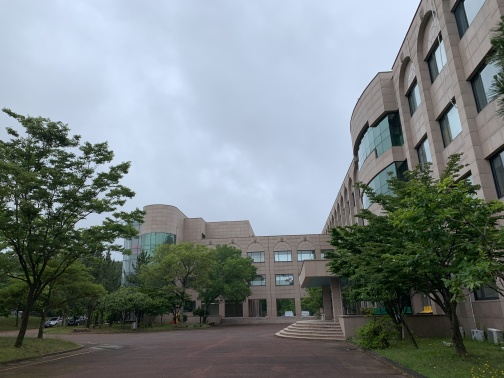Joint Experimental Labs: (122, 203, 182, 290)
Natural Science2: (275, 19, 448, 349), (306, 18, 504, 234)
